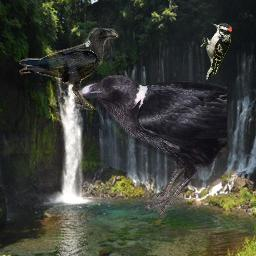Crow: (76, 74, 227, 221), (19, 28, 119, 110)
Woodpecker: (200, 22, 232, 82)
